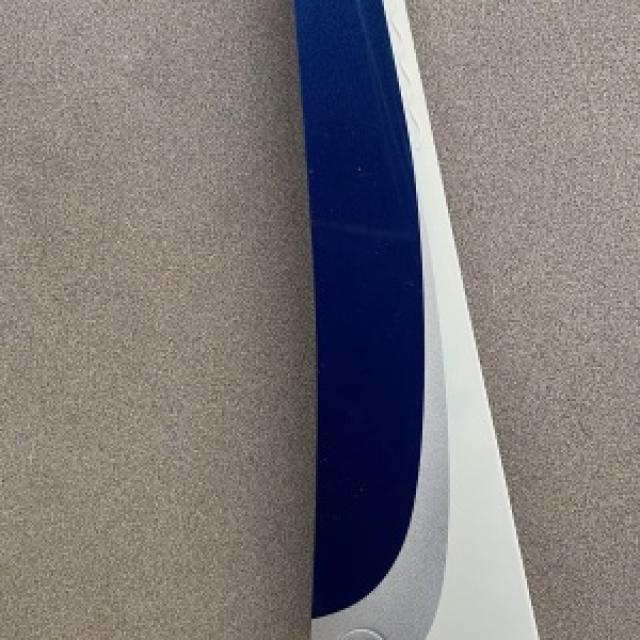healthy: (0, 0, 314, 638), (294, 0, 535, 638)
